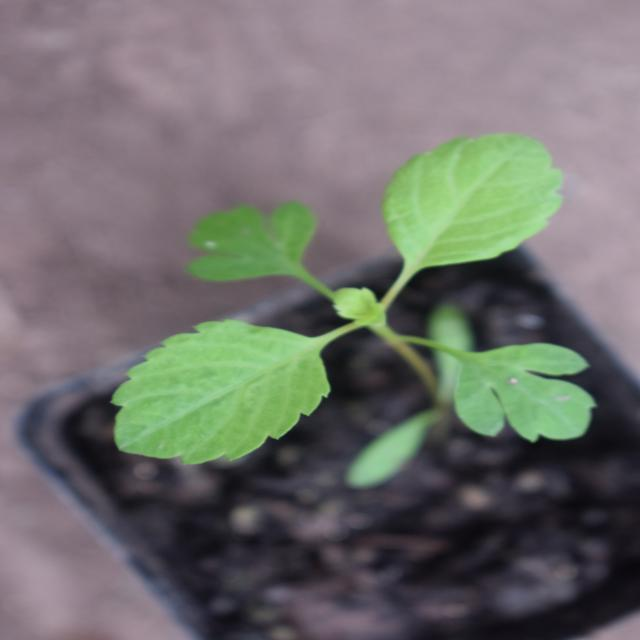Bidens pilosa: (124, 49, 466, 524)
